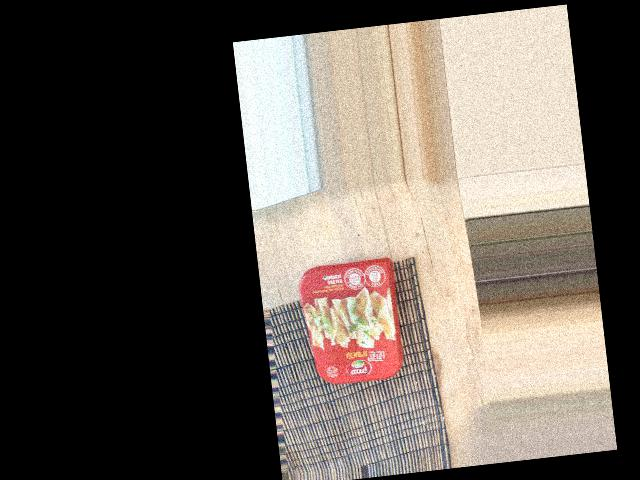cheese: (259, 336, 401, 438)
